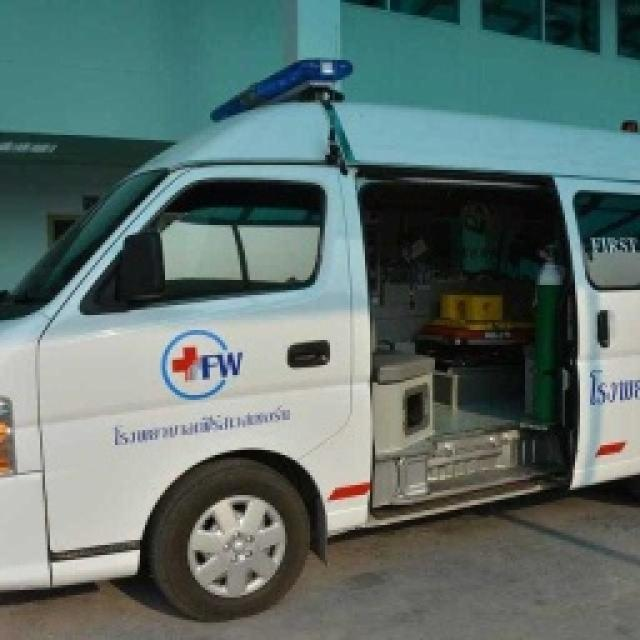emergency-vehicle: (0, 70, 640, 578)
